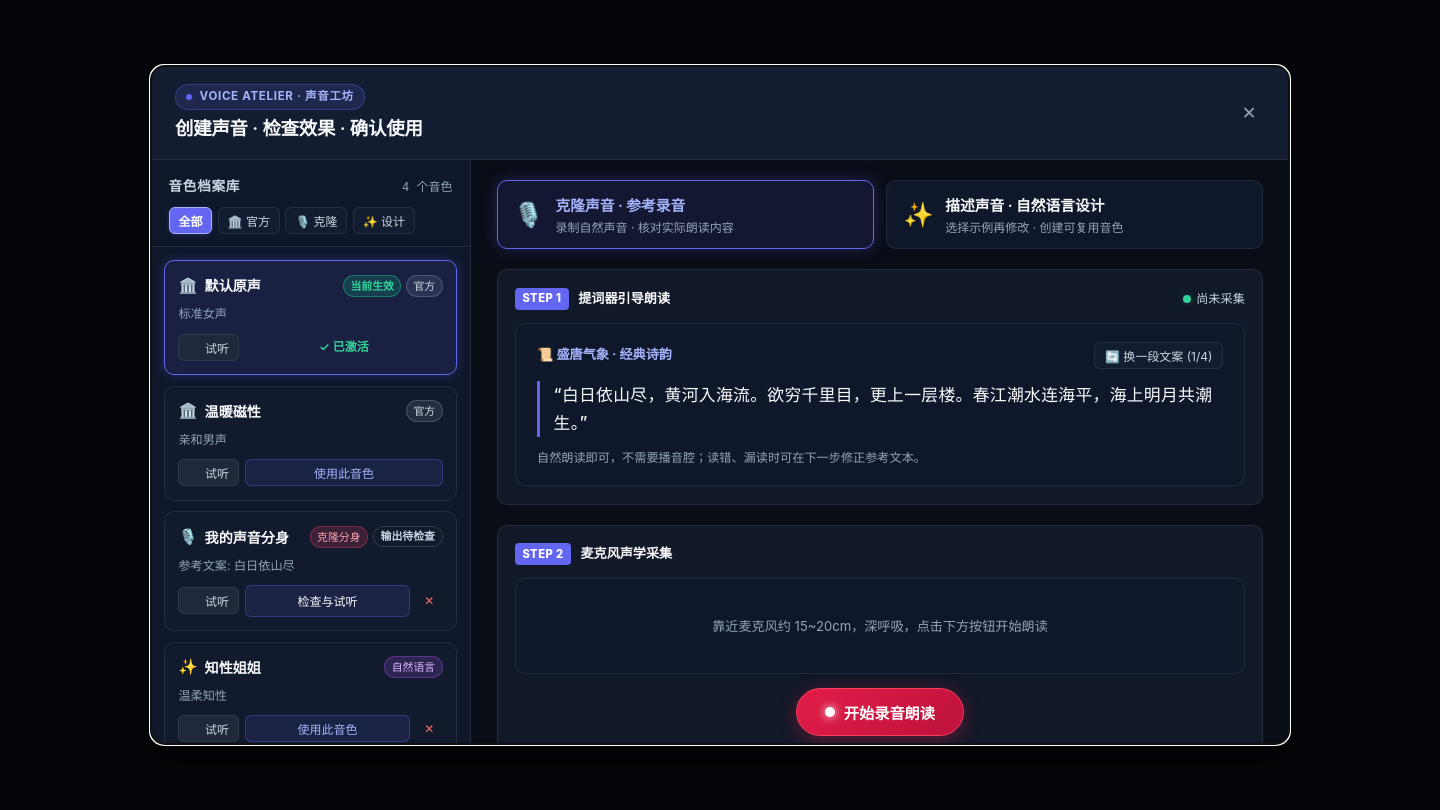
opens VoiceDeleteModal when clicking delete on custom voice and confirms deletion
The width and height of the screenshot is (1440, 810).
Note: 点击删除按钮，弹出确认弹窗
Click the button with class "btn-deck-delete" below "参考文案: 白日依山尽" at [429, 601], box [416, 588, 443, 613]
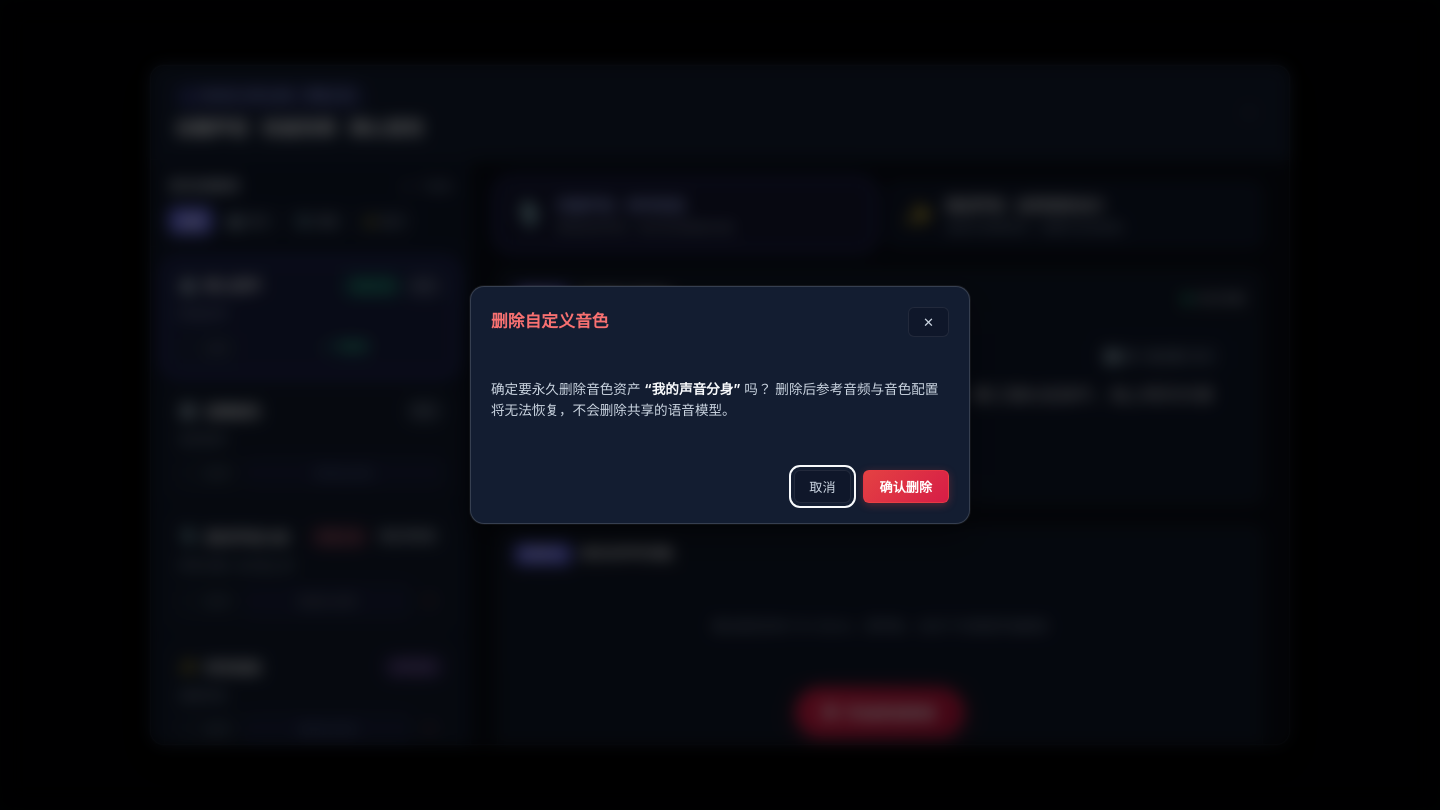
Now the dialog is shown, box [470, 286, 970, 524]
Now the dialog shows "删除自定义音色", box [491, 311, 608, 331]
Now the dialog shows "确定要永久删除音色资产", box [491, 381, 644, 397]
Click the button "取消" at [822, 486], box [794, 470, 850, 503]
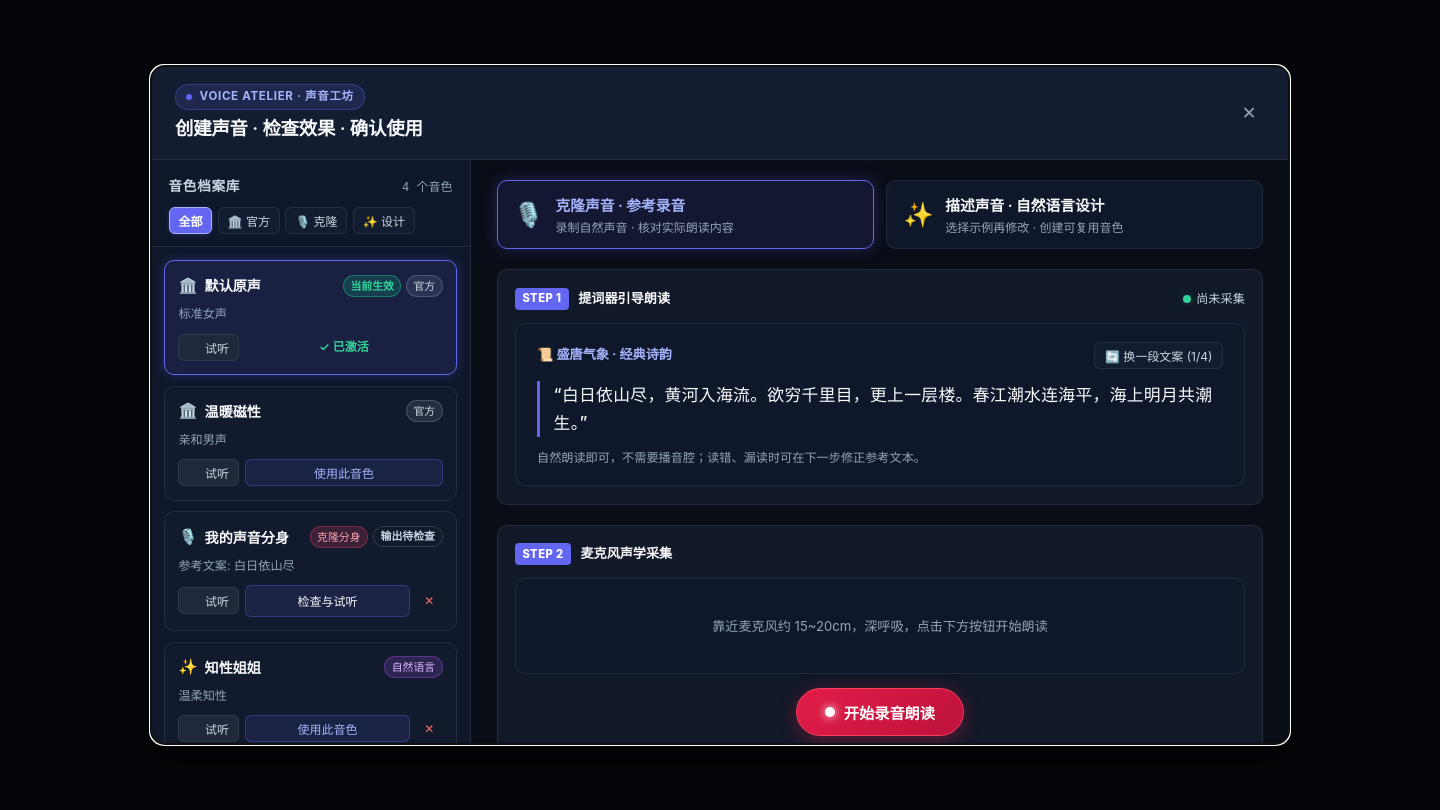
Now the dialog is gone
Note: 再次打开并点击确认删除
Click the button with class "btn-deck-delete" below "参考文案: 白日依山尽" at [429, 601], box [416, 588, 443, 613]
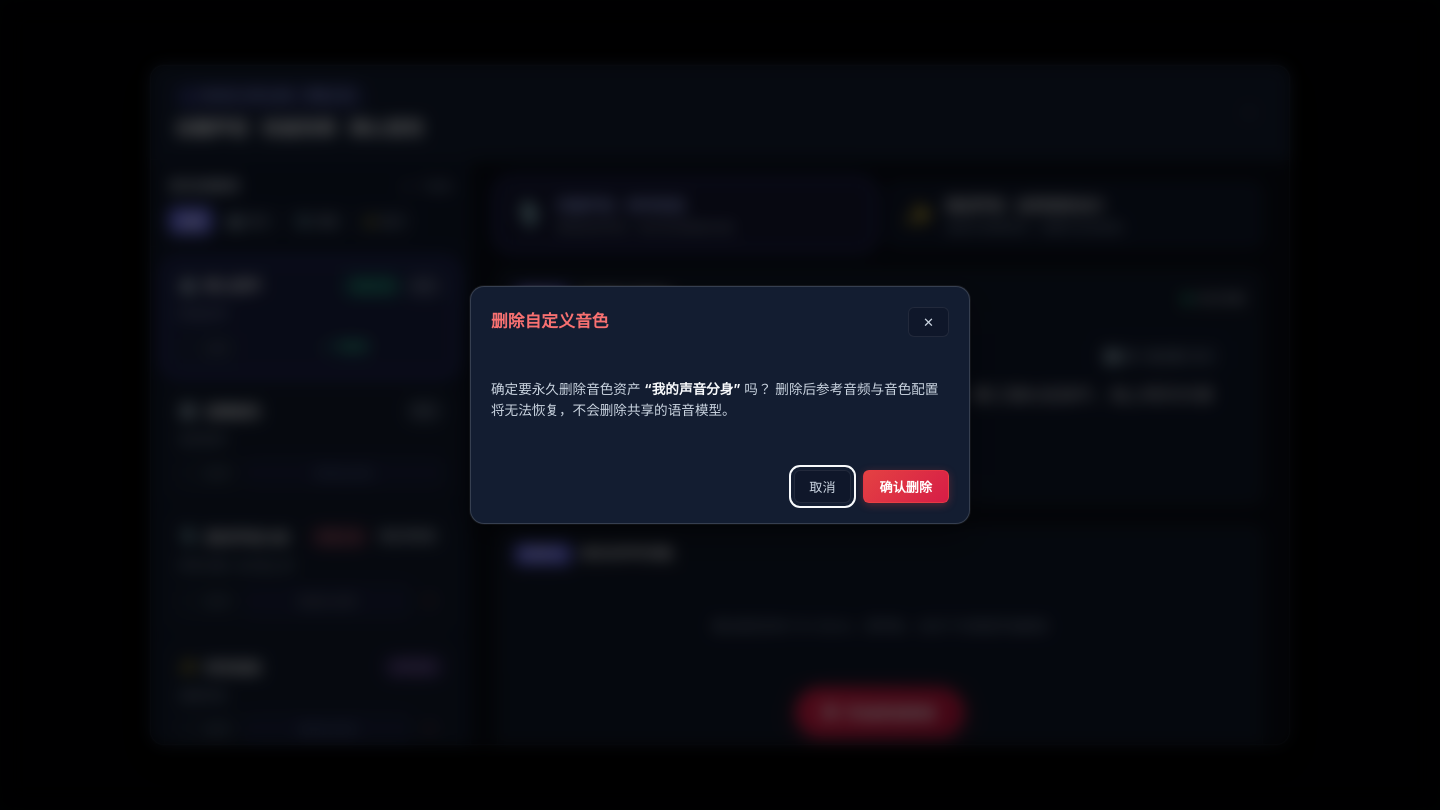
Now the button "确认删除" is shown
Click the button "确认删除" at [906, 486], box [862, 470, 949, 503]
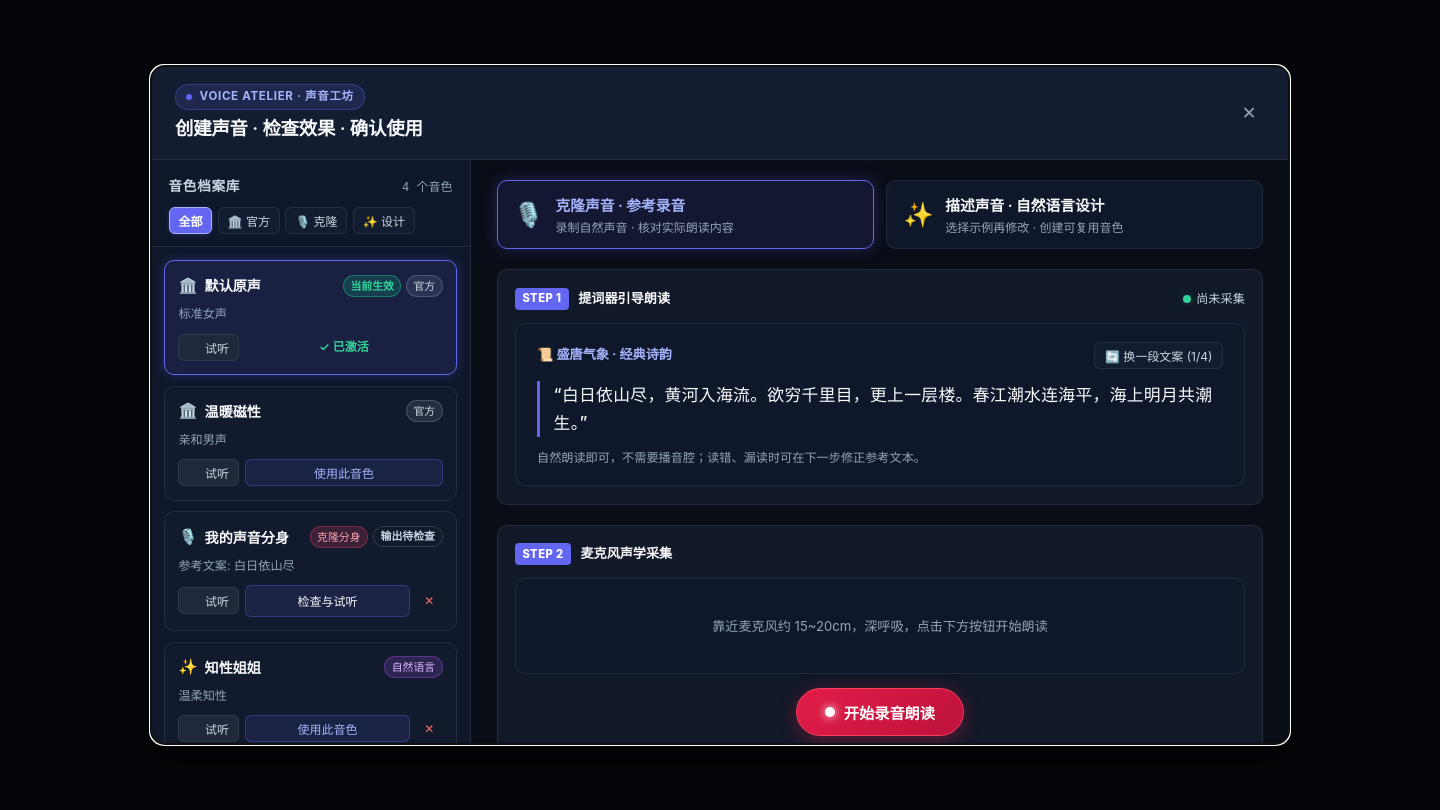
Now the dialog is gone
